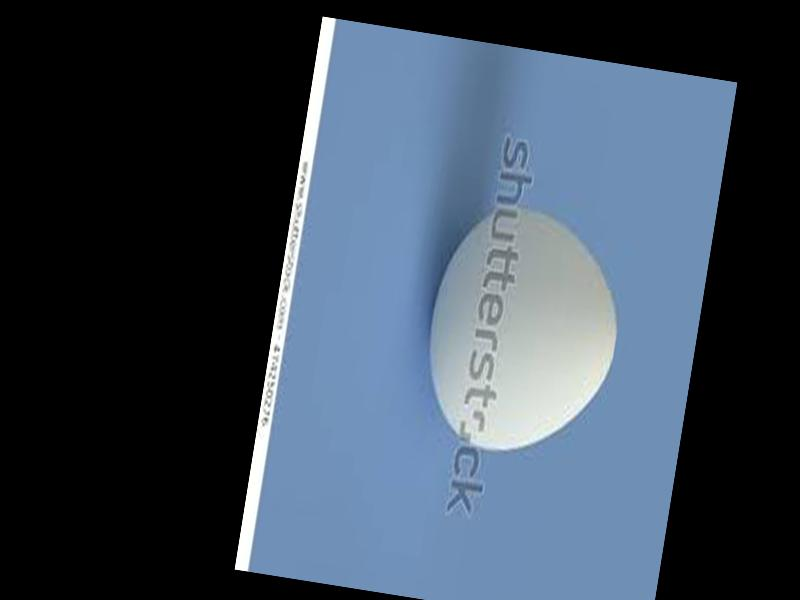Eggs: (411, 196, 633, 467)
